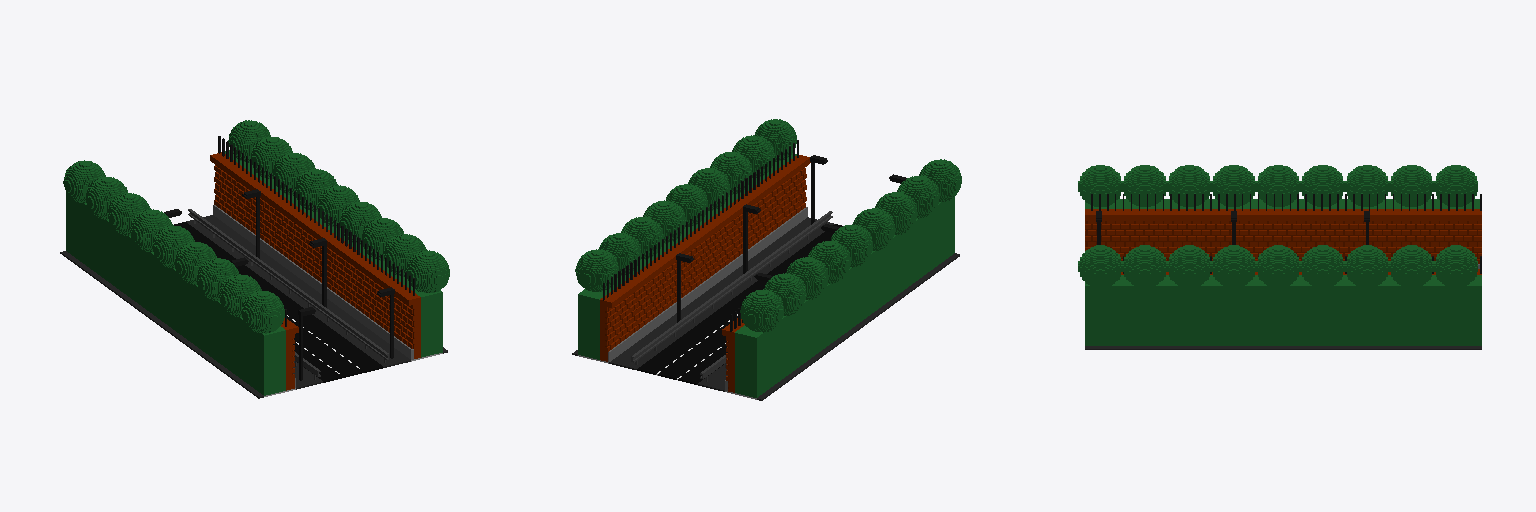
3 renders of one model, left to right at view 1: azimuth 30°, elevation 25°; view 2: azimuth 150°, elevation 25°; view 3: azimuth 270°, elevation 25°, orthographic.
Visible parts, largest first — view 1: object 1; view 2: object 1; view 3: object 1.
Part boxes in pixels (bbox=[...]): object 1: bbox=[60, 120, 449, 398]; object 1: bbox=[572, 119, 961, 400]; object 1: bbox=[1078, 165, 1481, 349].
Size of the model in its own units: 14.6 by 6.7 by 25.4.
Materials: 1 (1 with a texture image).